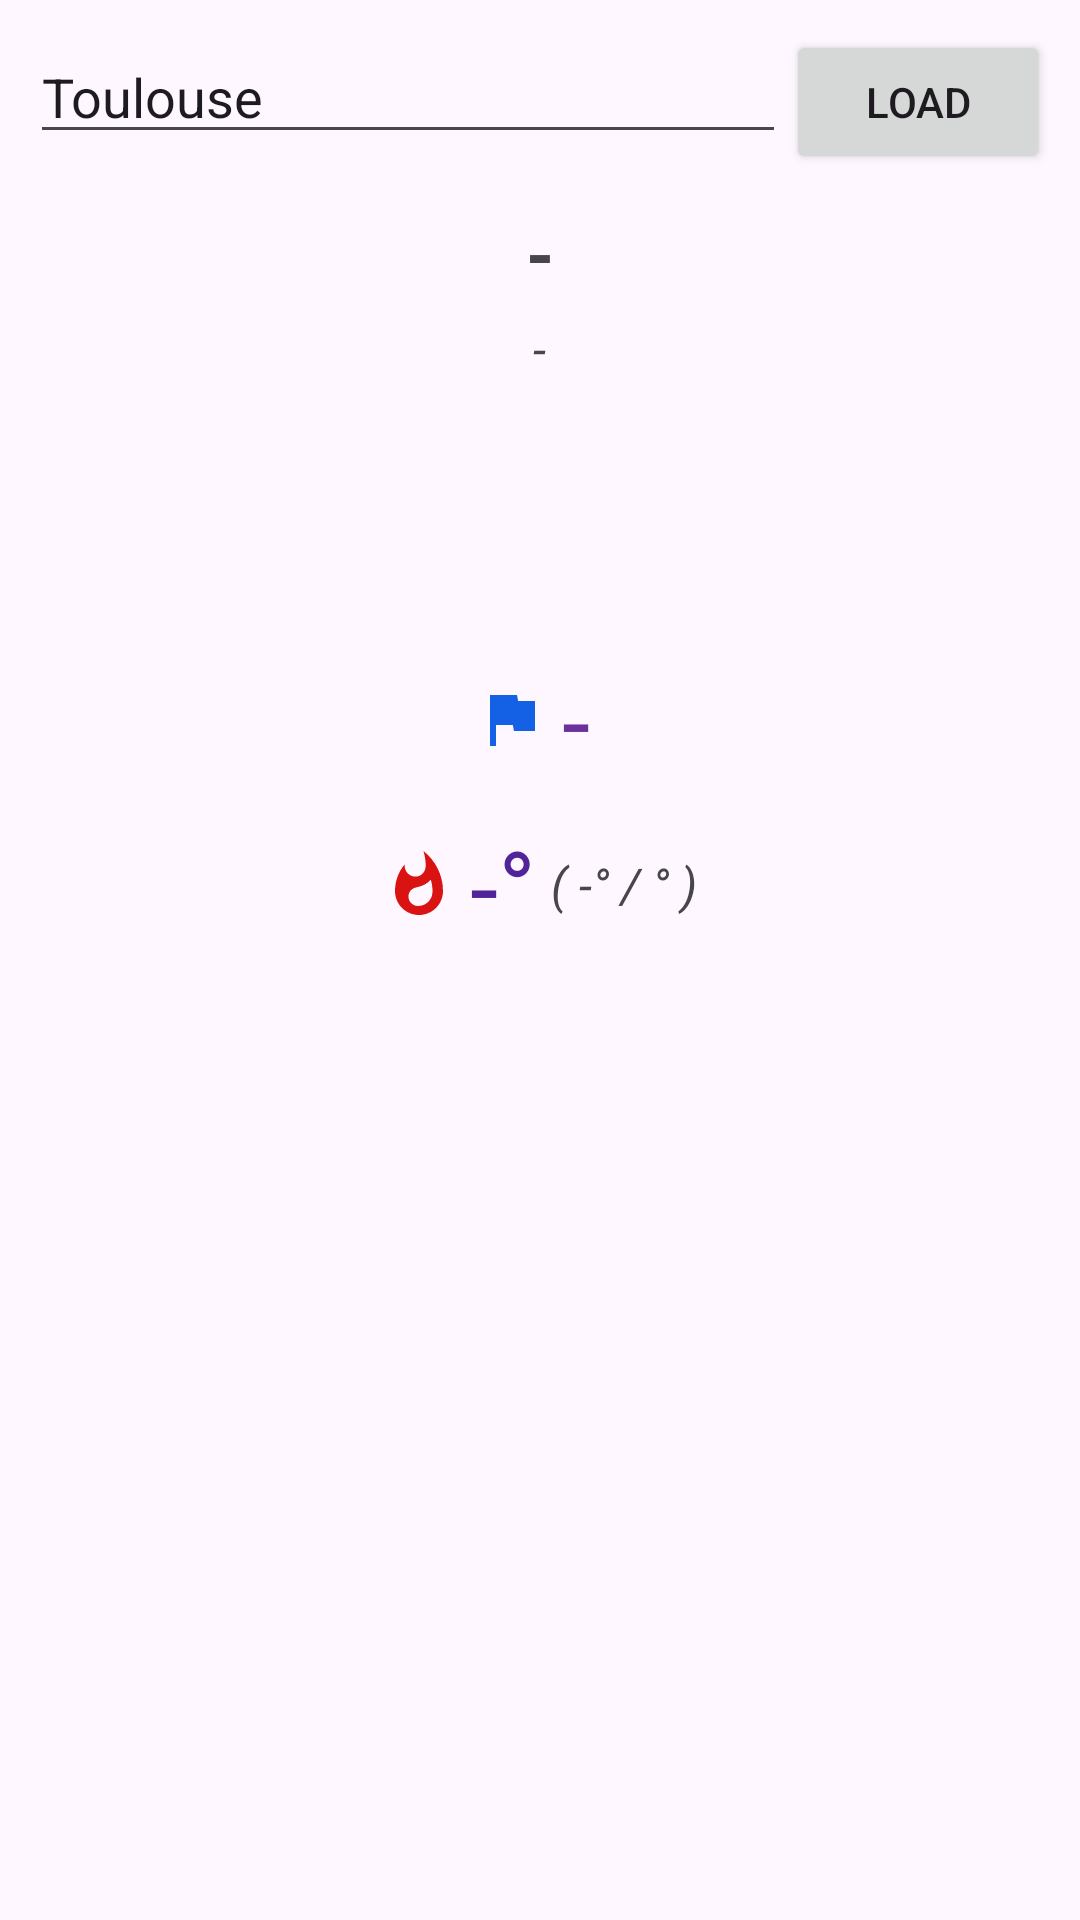

Icons on this 1080 x 1920 Android screen, each with its box as box(x1, y1, x2, y2):
flag: box(490, 695, 535, 746)
whatshot: box(395, 851, 443, 915)
